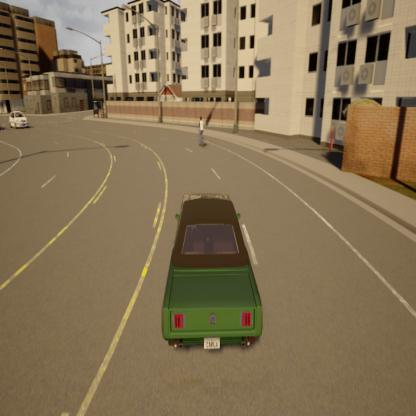Cars: (154, 186, 268, 366), (7, 107, 33, 133)
